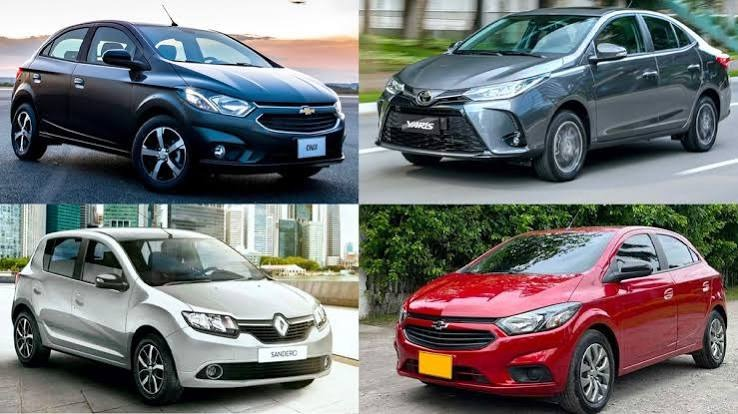car: (51, 21, 554, 183), (385, 221, 737, 410), (367, 4, 731, 182), (365, 8, 734, 182), (1, 23, 353, 186), (7, 226, 335, 399)
